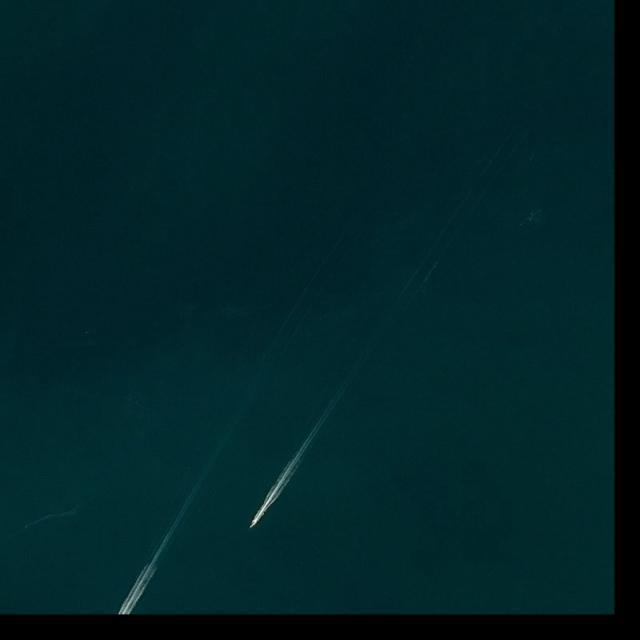ship: (249, 521, 255, 530)
